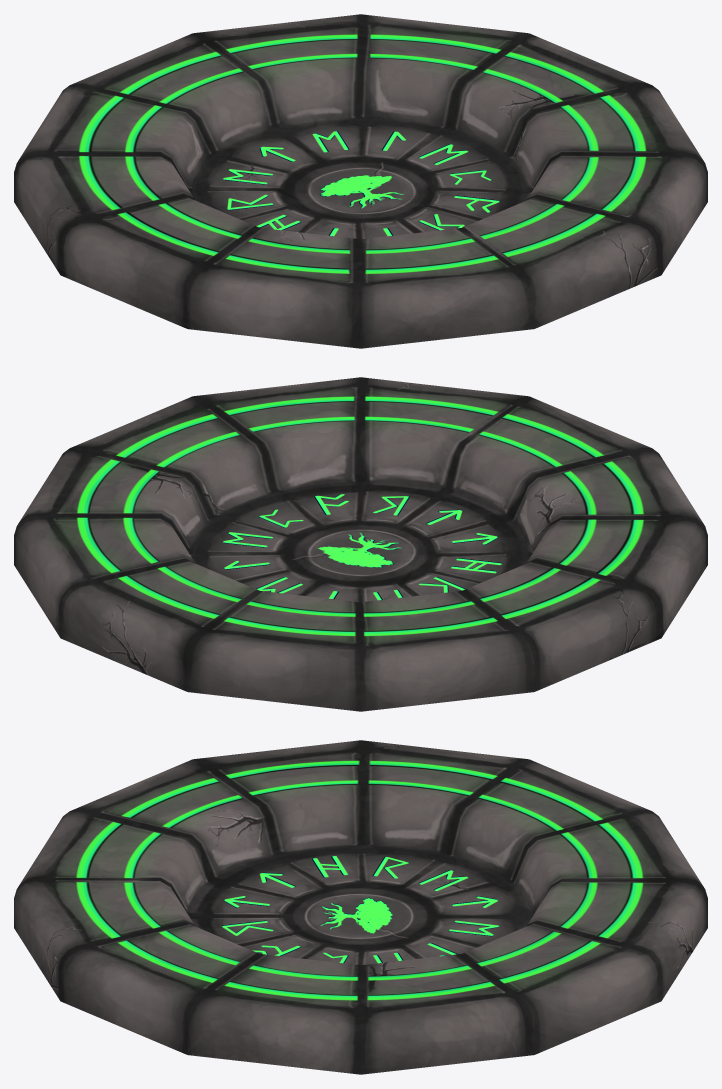
File: stoneplatform_green.glb
The picture shows the model from 3 angles, top to bottom: view 1: azimuth 30°, elevation 25°; view 2: azimuth 150°, elevation 25°; view 3: azimuth 270°, elevation 25°; orthographic projection.
Parts seen in each view (by area): view 1: Portal_StonePlatform-Green, Portal_StonePlatform-Inscryption-Green; view 2: Portal_StonePlatform-Green, Portal_StonePlatform-Inscryption-Green; view 3: Portal_StonePlatform-Green, Portal_StonePlatform-Inscryption-Green.
Part boxes in pixels (<box>): Portal_StonePlatform-Green: <box>14,14,707,348</box>; Portal_StonePlatform-Inscryption-Green: <box>223,131,499,236</box>; Portal_StonePlatform-Green: <box>14,377,707,711</box>; Portal_StonePlatform-Inscryption-Green: <box>222,494,501,600</box>; Portal_StonePlatform-Green: <box>14,740,707,1074</box>; Portal_StonePlatform-Inscryption-Green: <box>222,856,498,963</box>.
Bounding box in the file's own units: 5.5 × 0.4204 × 5.5.
2 materials, 2 textured.
